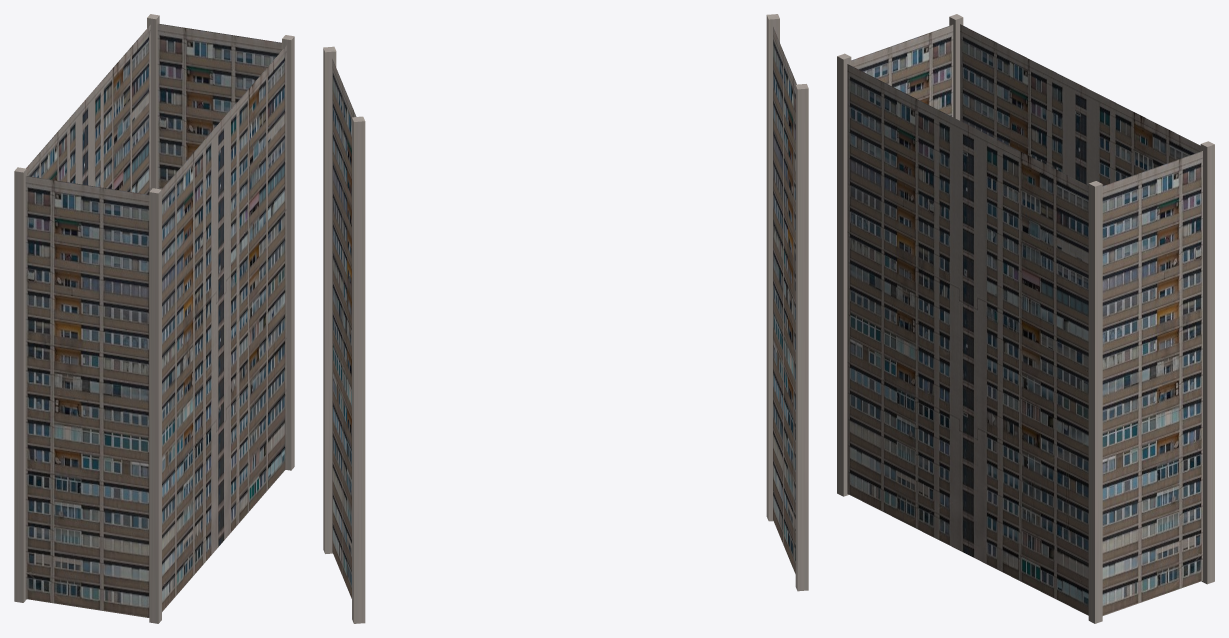
Rendered from tower_16_wide.glb.
3 renders of one model, left to right at view 1: azimuth 30°, elevation 25°; view 2: azimuth 150°, elevation 25°; view 3: azimuth 270°, elevation 25°, orthographic. The views are drawn at different scales.
Parts seen in each view (by area): view 1: tower_16_wide; view 2: tower_16_wide; view 3: tower_16_wide.
Part boxes in pixels (bbox=[...]): tower_16_wide: bbox=[14, 14, 294, 623]; tower_16_wide: bbox=[323, 14, 808, 623]; tower_16_wide: bbox=[837, 14, 1214, 623].
Bounding box in the file's own units: 40.99 × 48.38 × 37.88.
Materials: 1 (1 with a texture image).
